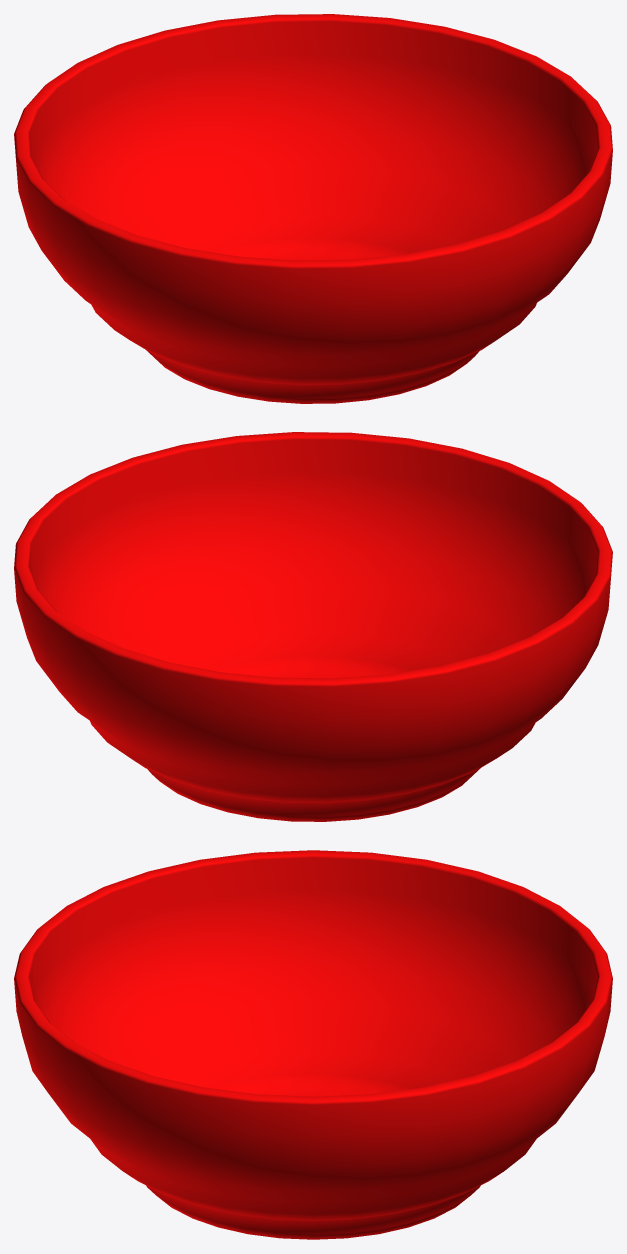
The picture shows the model from 3 angles, top to bottom: view 1: azimuth 30°, elevation 25°; view 2: azimuth 150°, elevation 25°; view 3: azimuth 270°, elevation 25°; orthographic projection.
Parts seen in each view (by area): view 1: bowl; view 2: bowl; view 3: bowl.
Part boxes in pixels (bbox=[...]): bowl: bbox=[14, 14, 612, 403]; bowl: bbox=[14, 432, 612, 821]; bowl: bbox=[14, 850, 612, 1239].
Size of the model in its own units: 0.1948 by 0.071 by 0.1948.
